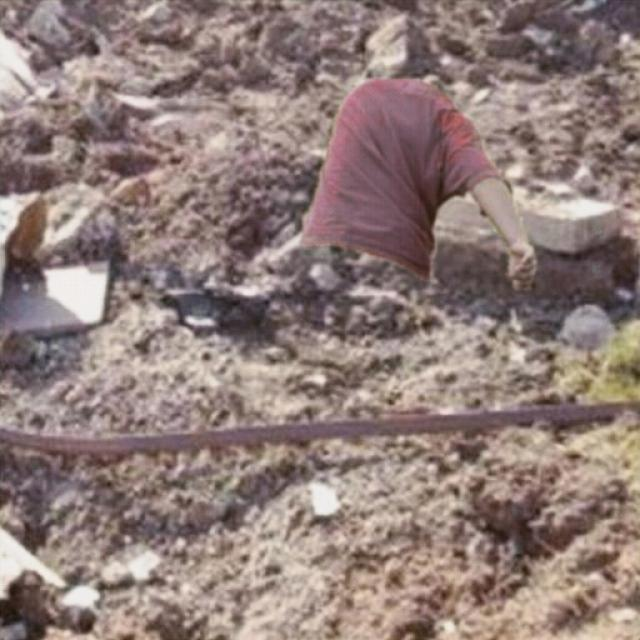Person in Rubble: (302, 79, 536, 289)
